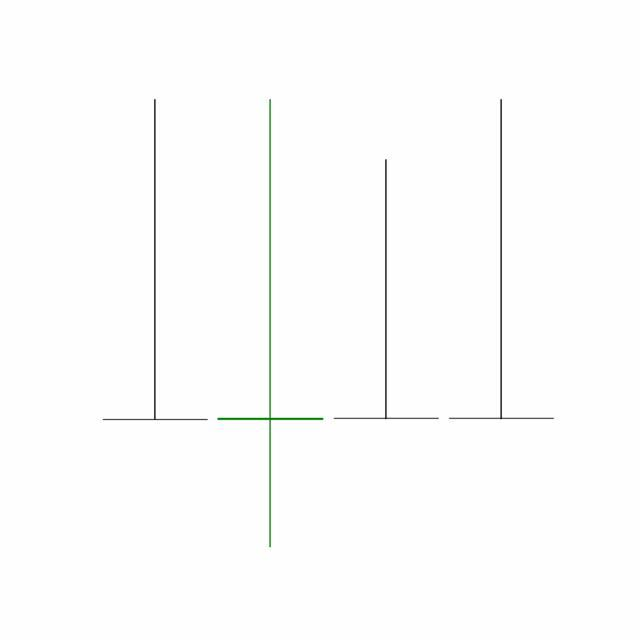Gravestone Doji: (329, 158, 445, 424)
